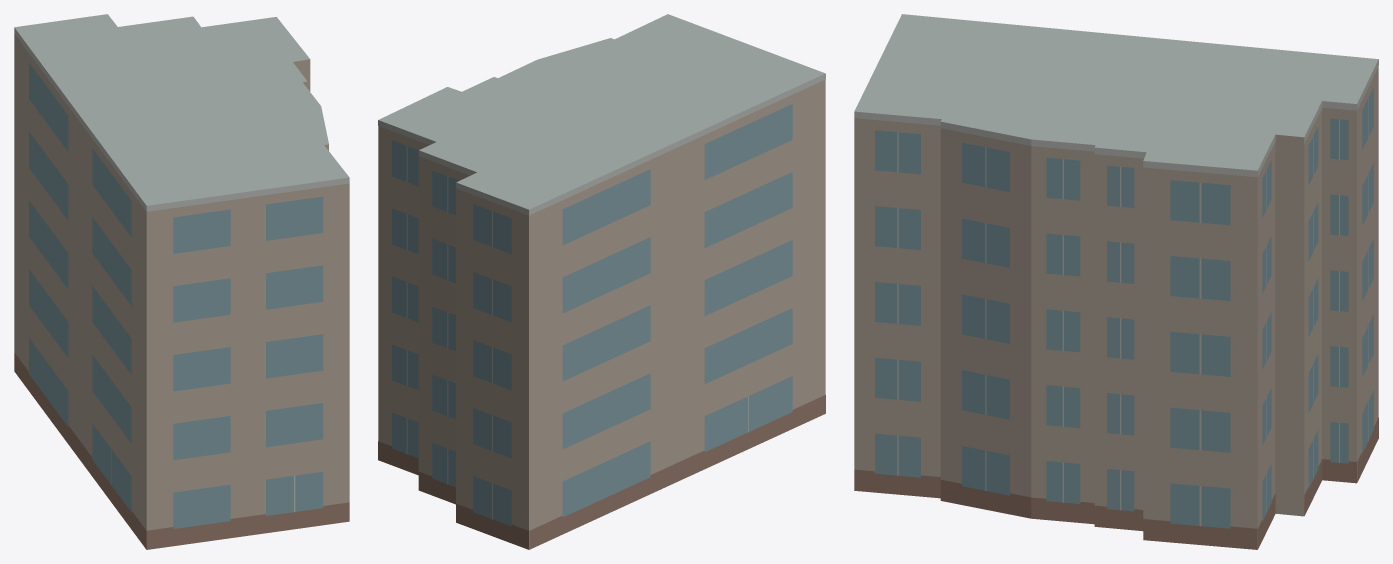
Rendered from survey-upis-32526008.glb.
3 views of the same model, side by side, from view 1: azimuth 30°, elevation 25°; view 2: azimuth 150°, elevation 25°; view 3: azimuth 270°, elevation 25° (orthographic). The views are drawn at different scales.
Visible parts, largest first — view 1: survey-upis-32526008.tmp; view 2: survey-upis-32526008.tmp; view 3: survey-upis-32526008.tmp.
Boxes of the visible parts, <box> form: survey-upis-32526008.tmp: <box>14,14,349,549</box>; survey-upis-32526008.tmp: <box>378,14,825,549</box>; survey-upis-32526008.tmp: <box>854,14,1378,549</box>.
Bounding box in the file's own units: 12.51 × 14.1 × 17.69.
